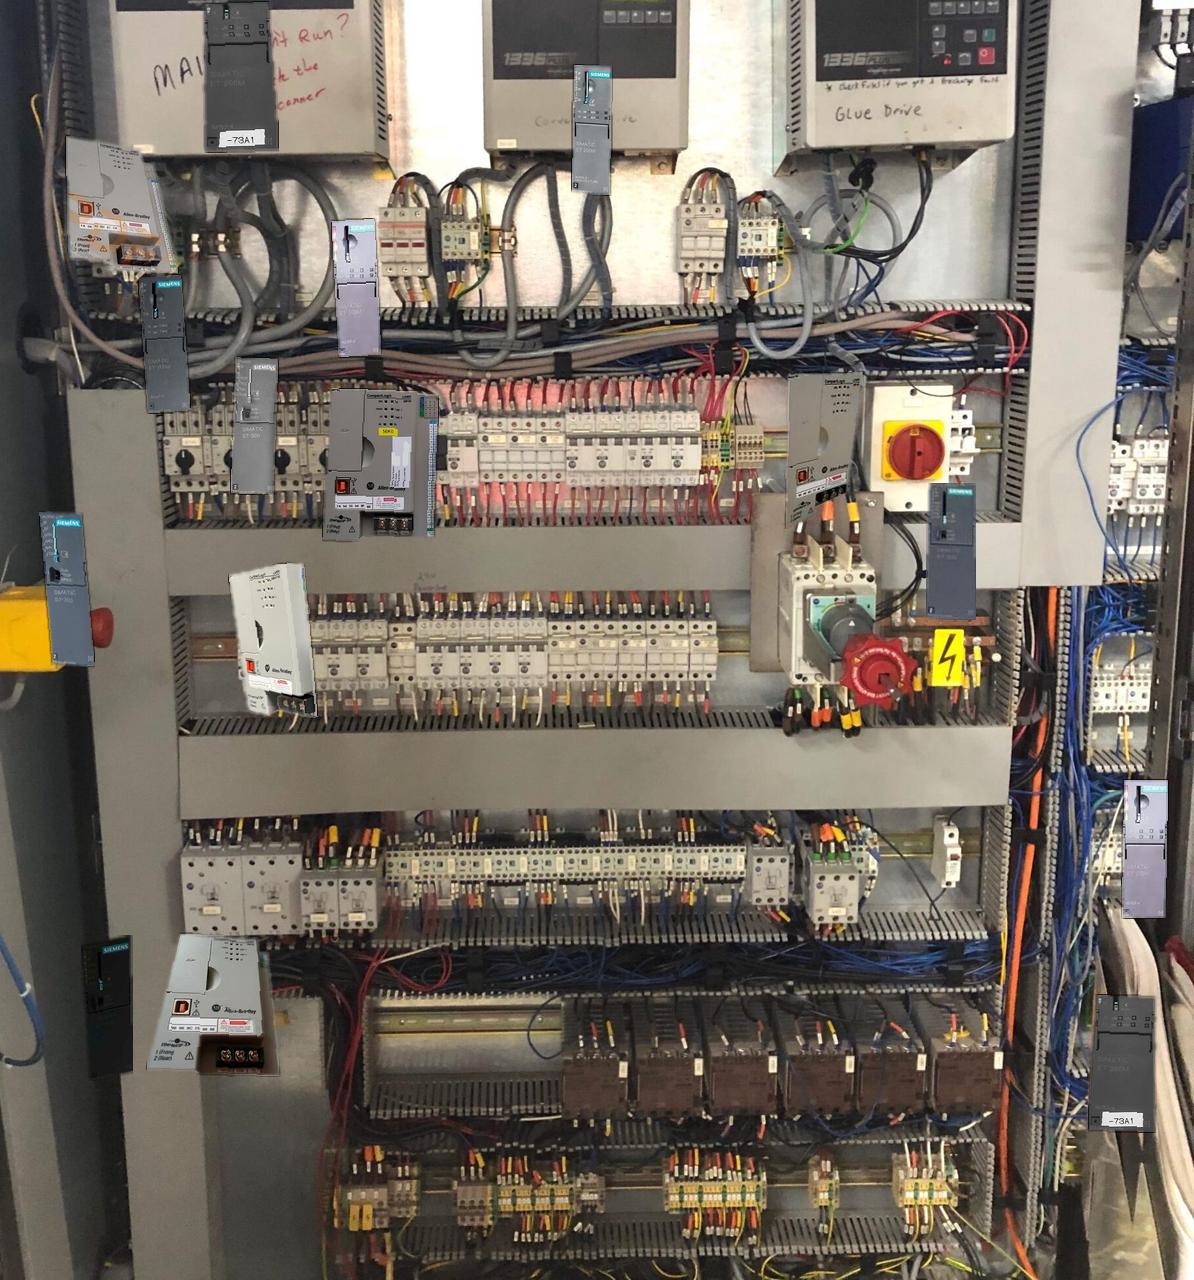AllenBradley: (147, 934, 278, 1074), (322, 388, 437, 540), (66, 136, 177, 271), (229, 563, 316, 717), (786, 372, 862, 528)
Siemens: (39, 512, 94, 665), (81, 934, 132, 1080), (926, 484, 975, 619), (231, 358, 277, 492)
